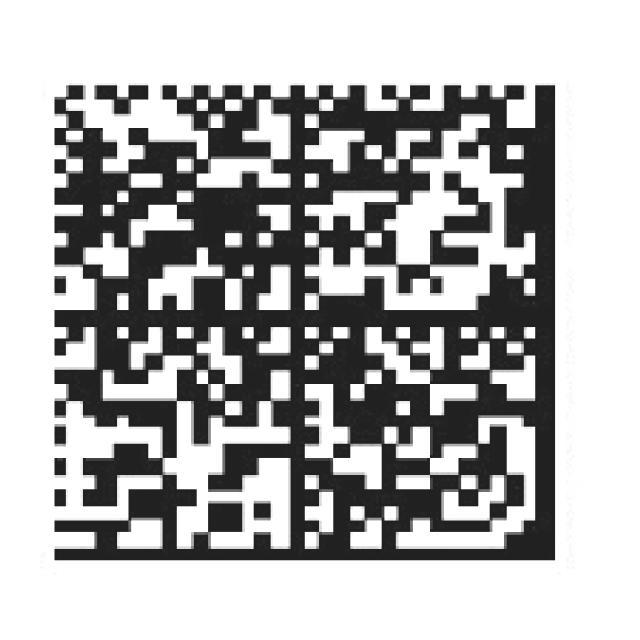Data-Matrix: (46, 71, 566, 572)
